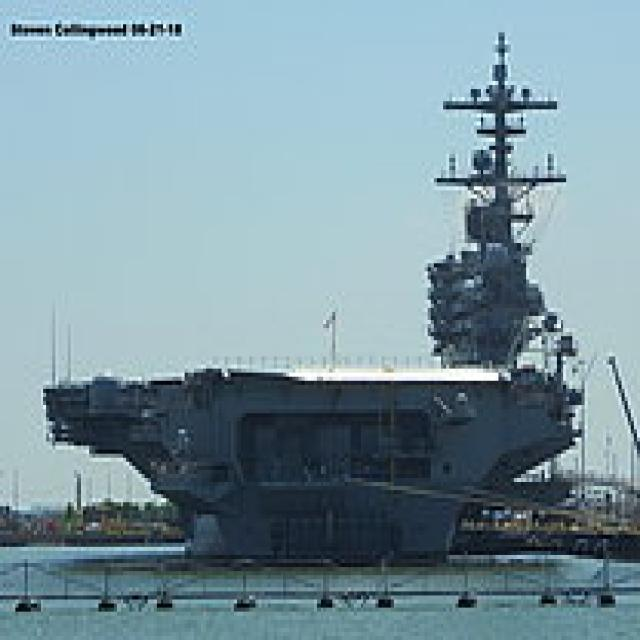Warship: (40, 24, 585, 563)
